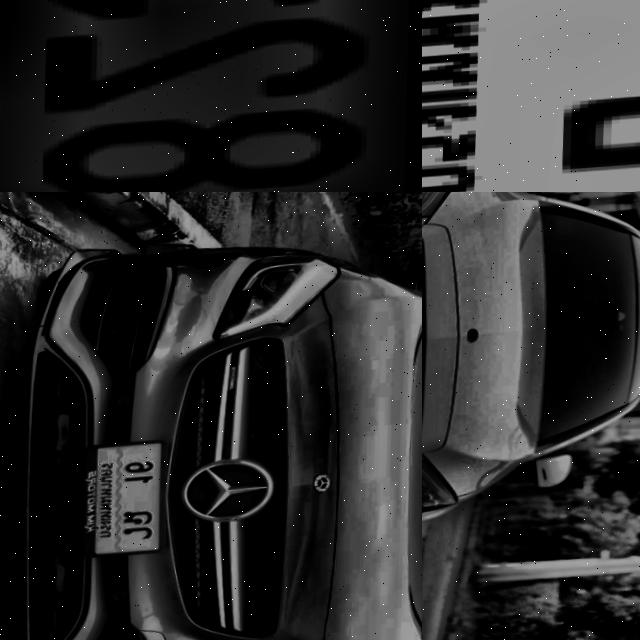license-plate: (0, 0, 422, 192), (422, 0, 640, 192), (85, 439, 177, 561)
